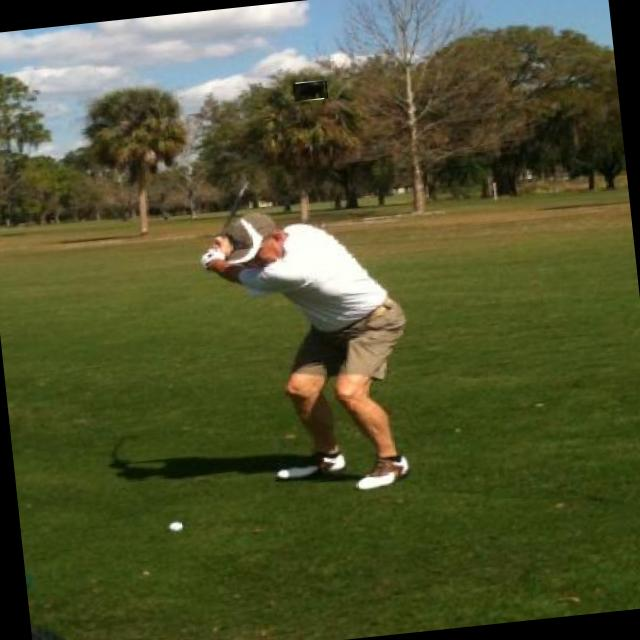club head: (292, 80, 328, 102)
